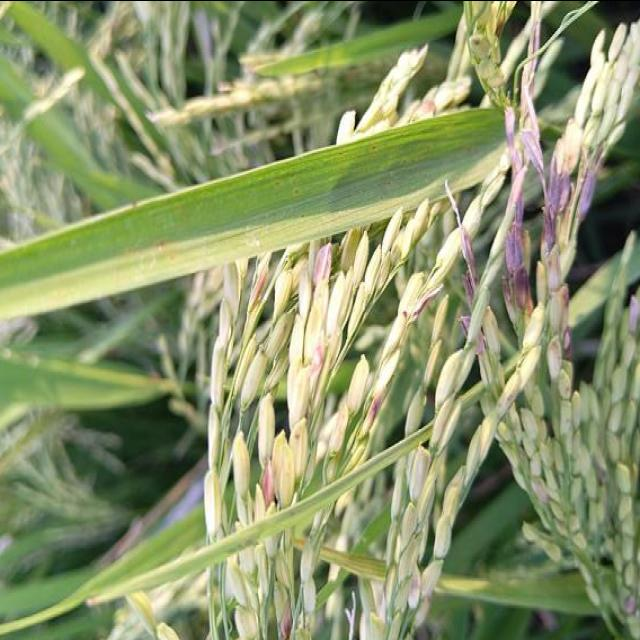Panicle Blight: (544, 156, 571, 252), (407, 282, 445, 323), (460, 224, 478, 308), (249, 260, 274, 317), (505, 105, 523, 179), (522, 125, 545, 173), (407, 86, 439, 120), (306, 323, 326, 377), (257, 455, 277, 508), (311, 243, 335, 284), (365, 386, 386, 430), (515, 266, 534, 314), (505, 228, 524, 275), (579, 171, 597, 219), (530, 475, 552, 505), (530, 20, 542, 74), (513, 188, 526, 234), (626, 293, 639, 337), (501, 273, 514, 302), (474, 325, 486, 355), (460, 314, 472, 343), (623, 595, 640, 614), (555, 284, 569, 305), (565, 328, 575, 353), (548, 340, 562, 356)
